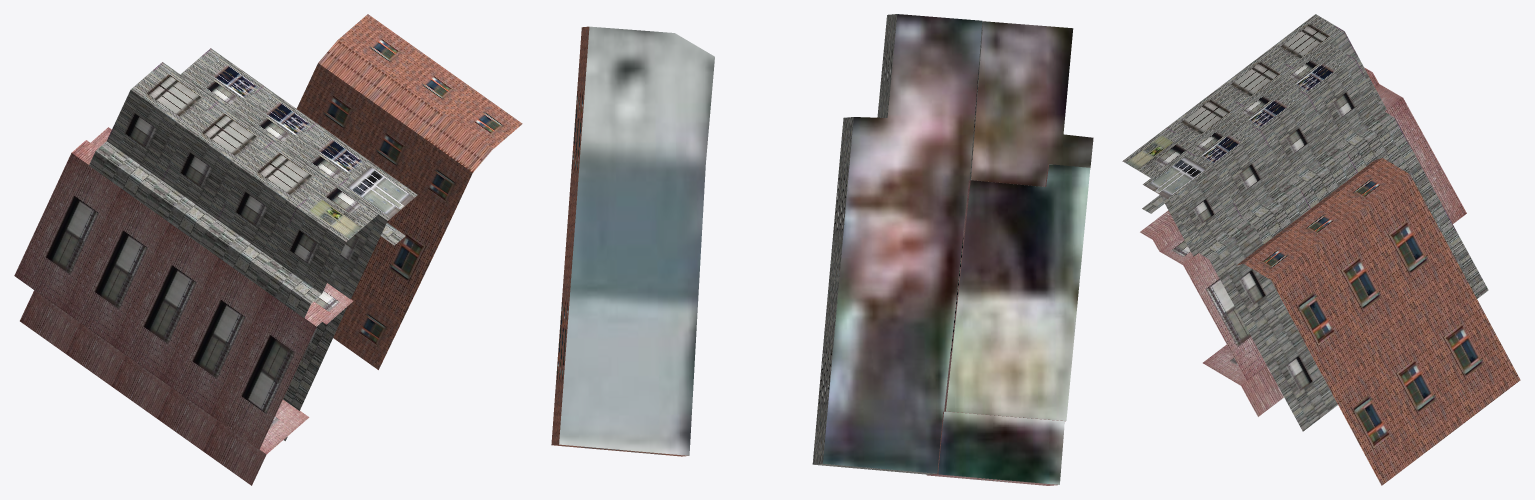
The picture shows the model from 3 angles, left to right: view 1: azimuth 30°, elevation 25°; view 2: azimuth 150°, elevation 25°; view 3: azimuth 270°, elevation 25°; orthographic projection. The views are drawn at different scales.
Size of the model in its own units: 26.01 by 22.28 by 22.76.
16 materials, 16 textured.
